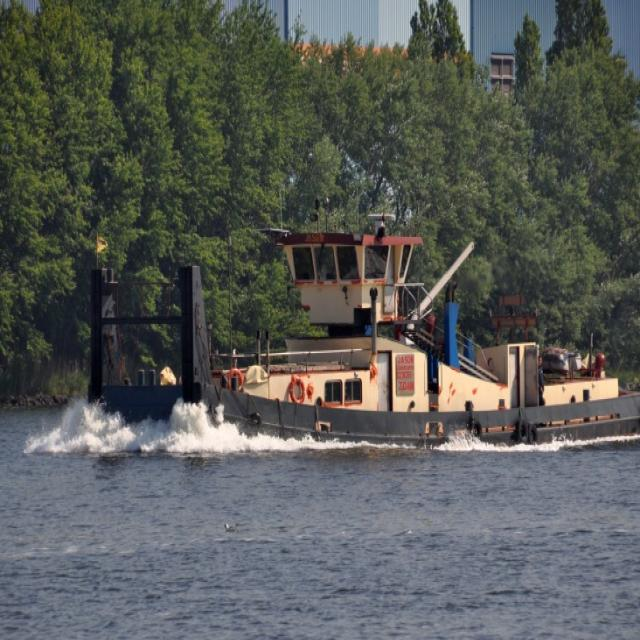tugboat: (82, 208, 640, 471)
